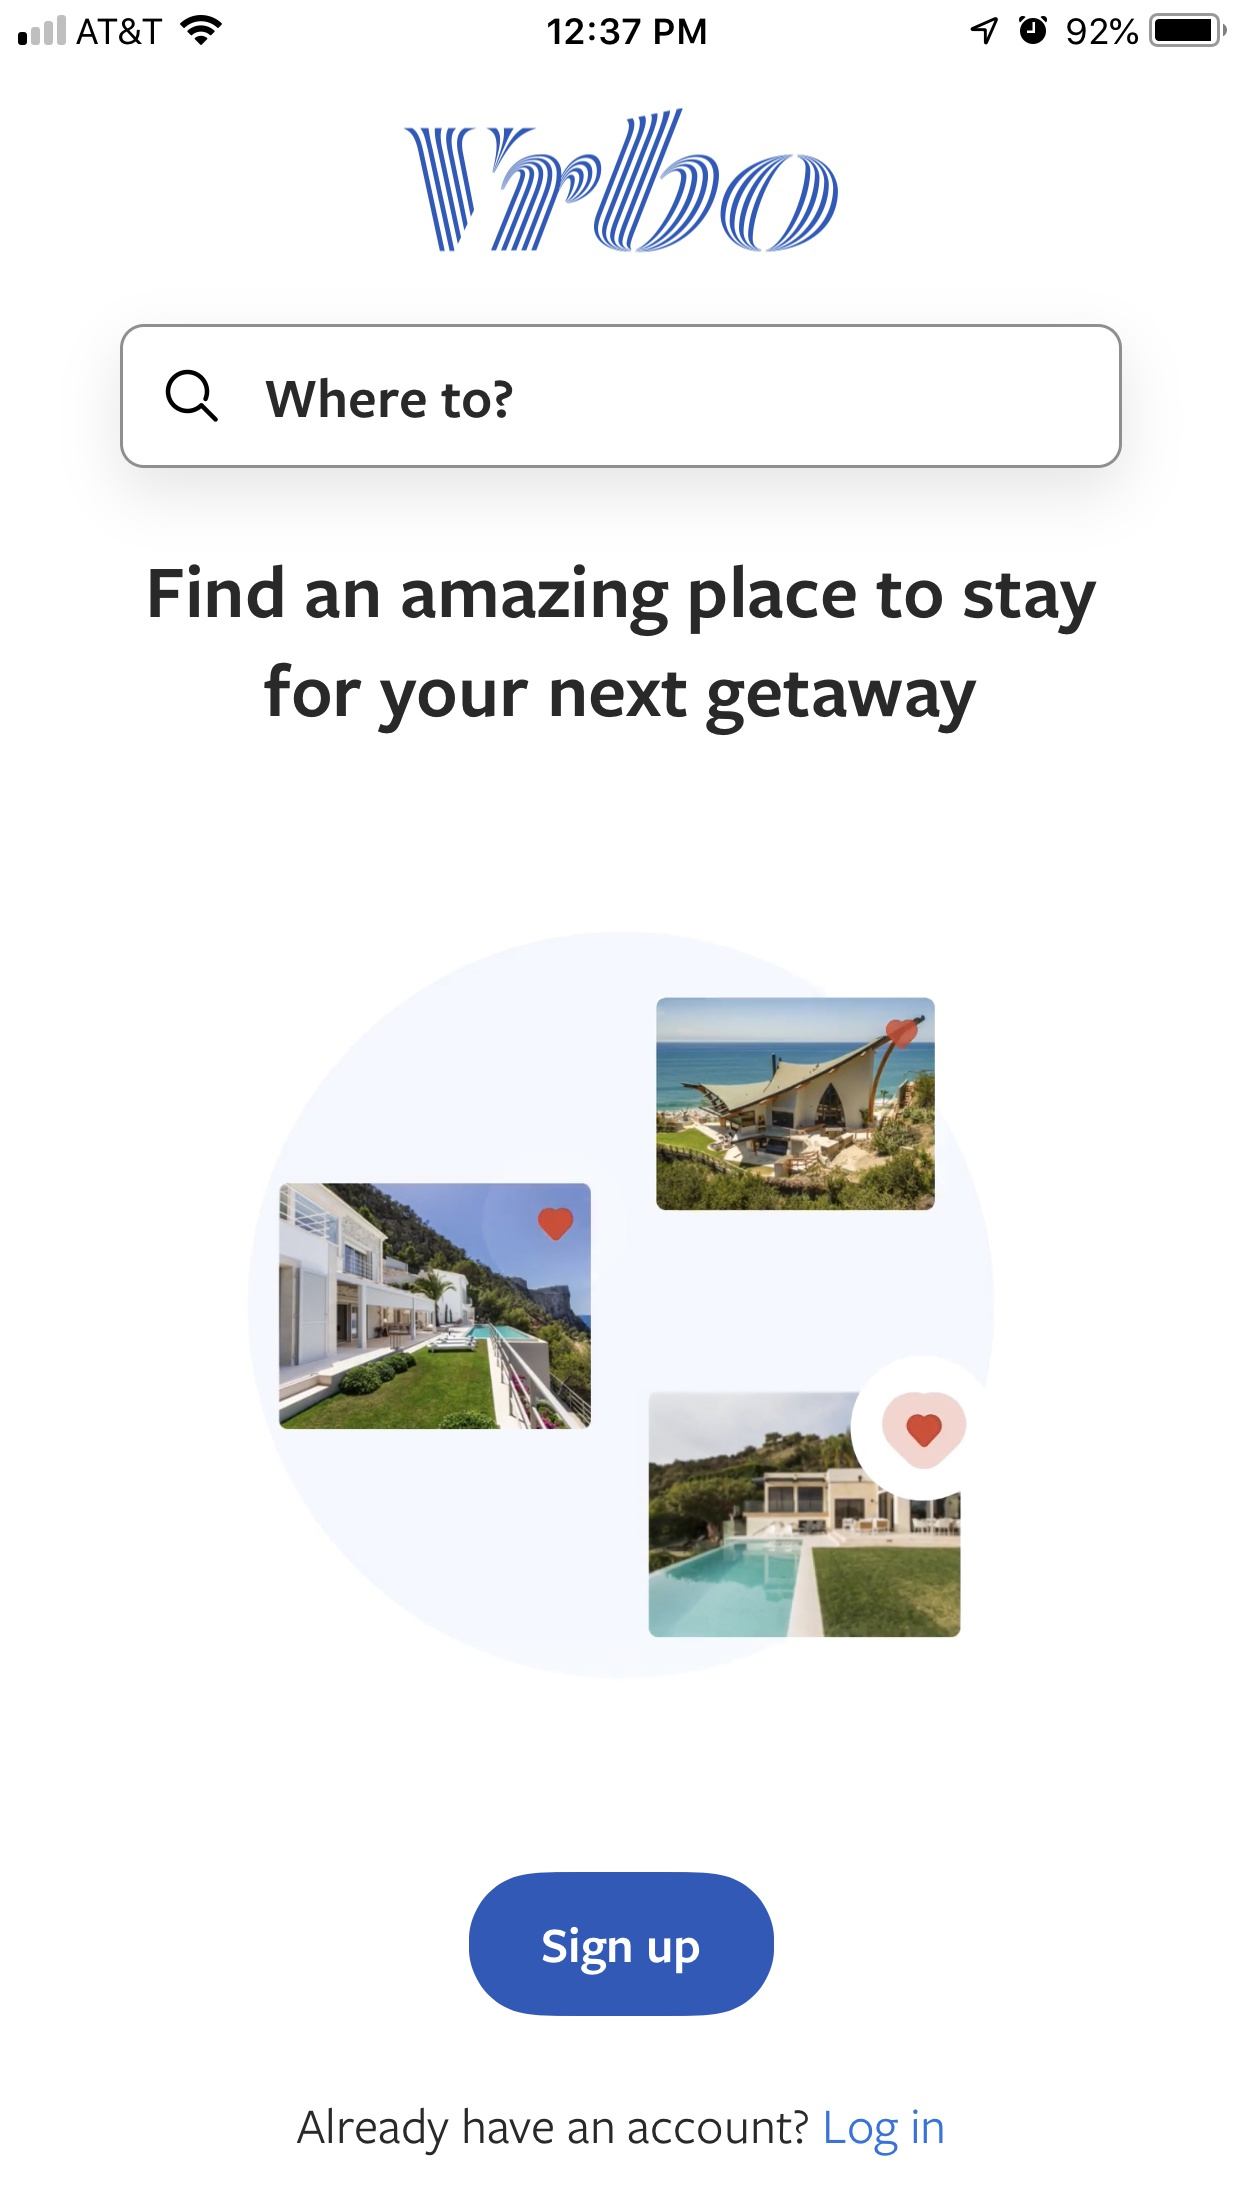EditText: (120, 325, 1124, 470)
Icon: (165, 369, 221, 425)
Image: (249, 931, 995, 1680), (403, 108, 840, 256)
Text: (150, 563, 1096, 735), (296, 2106, 943, 2156), (265, 379, 514, 419)
TextButton: (469, 1871, 775, 2017)
UpperTaskBar: (2, 2, 1242, 49)
